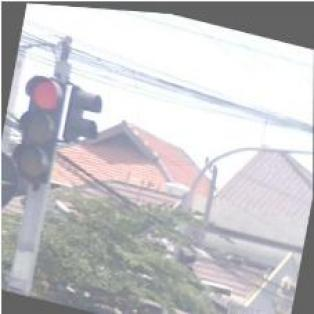Semaforo Rojo: (8, 70, 68, 186)
